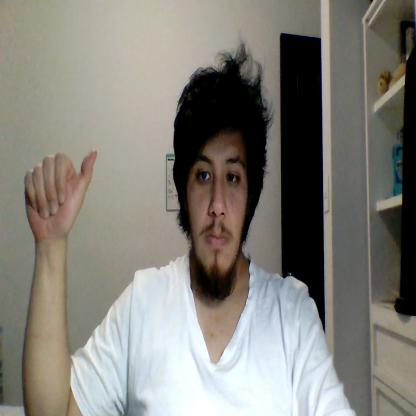A: (25, 148, 97, 236)
